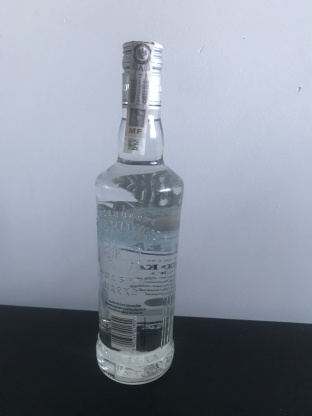nakretka: (118, 34, 166, 110)
